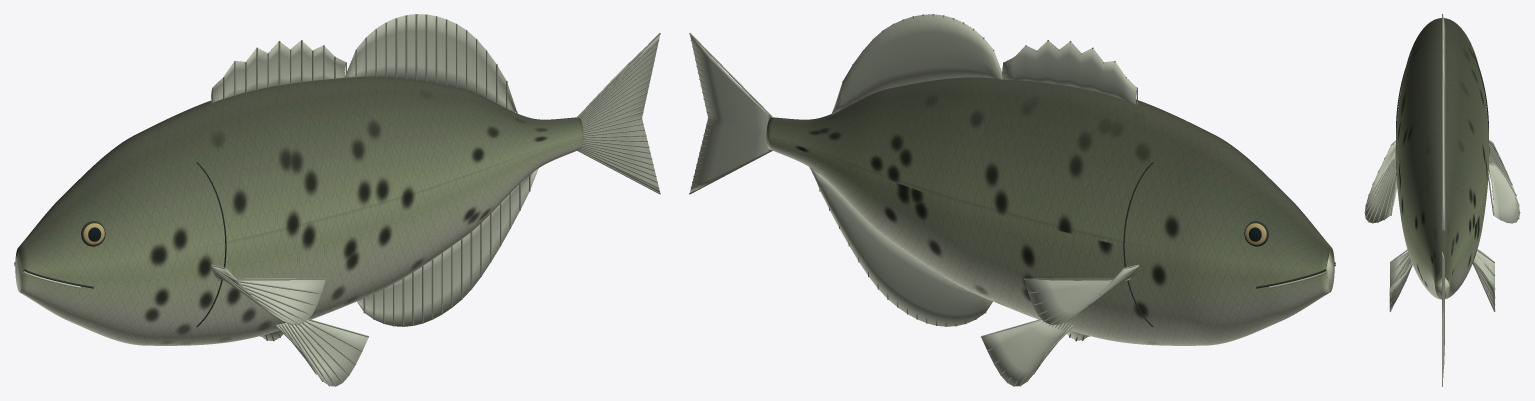
The model's file is black-crappie.glb.
The picture shows the model from 3 angles, left to right: view 1: azimuth 30°, elevation 25°; view 2: azimuth 150°, elevation 25°; view 3: azimuth 270°, elevation 25°; orthographic projection. The views are drawn at different scales.
Parts seen in each view (by area): view 1: black-crappie specimen; view 2: black-crappie specimen; view 3: black-crappie specimen.
Boxes of the visible parts, x1,y1,x2,y2 form: black-crappie specimen: (14, 14, 660, 386); black-crappie specimen: (689, 14, 1335, 386); black-crappie specimen: (1364, 14, 1520, 386).
Bounding box in the file's own units: 2.26 × 1.11 × 0.5673.
7 materials, 1 textured.
